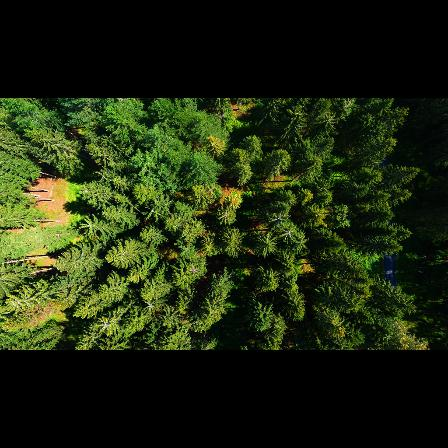Sick: (214, 205, 236, 227), (140, 294, 161, 314), (279, 224, 296, 243)
